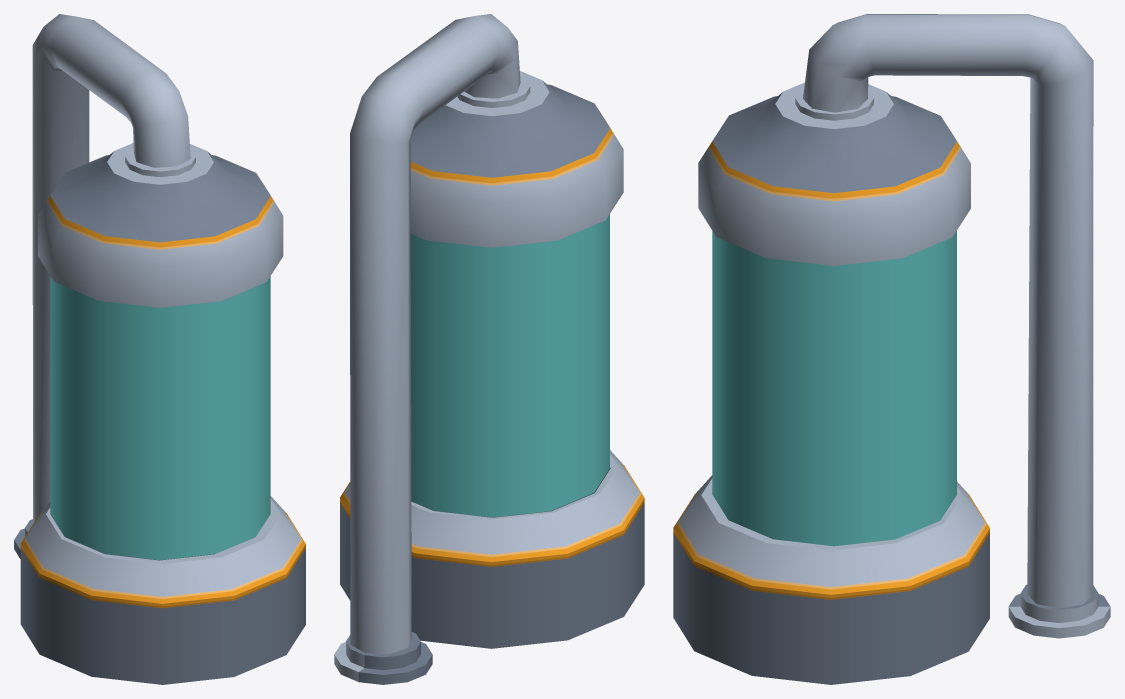
The model's file is Envi5.dae.
The picture shows the model from 3 angles, left to right: view 1: azimuth 30°, elevation 25°; view 2: azimuth 150°, elevation 25°; view 3: azimuth 270°, elevation 25°; orthographic projection. The views are drawn at different scales.
Parts seen in each view (by area): view 1: Cylinder.003; view 2: Cylinder.003; view 3: Cylinder.003.
Part boxes in pixels (bbox=[...]): Cylinder.003: bbox=[14, 14, 305, 684]; Cylinder.003: bbox=[334, 14, 644, 684]; Cylinder.003: bbox=[673, 14, 1110, 684].
Size of the model in its own units: 0.9284 by 1.28 by 1.95.
